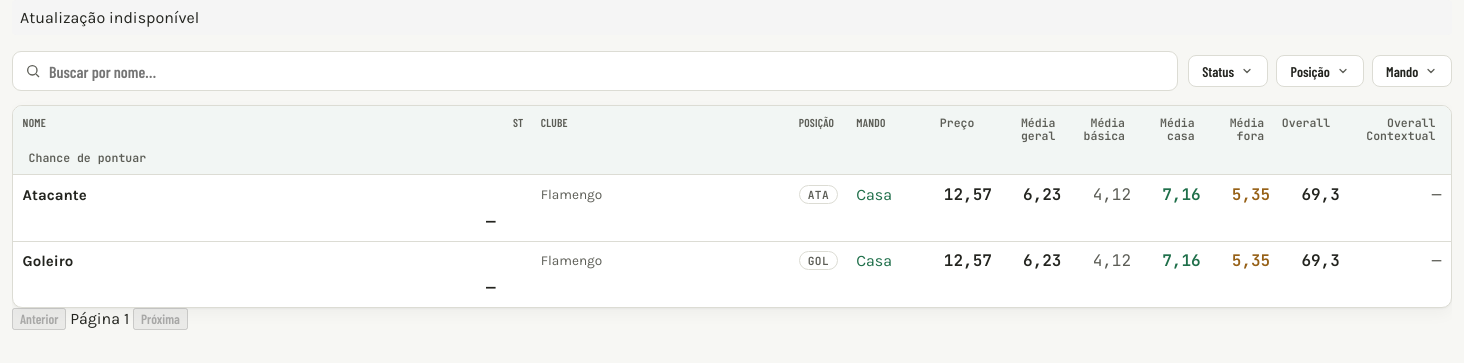
Test: Jogadores › removes an active position filter when the option is clicked again
Expected: the text "Atacante" is shown, [23,186,87,204]
Click the button "Posição" at (1320, 71), box [1276,55,1364,87]
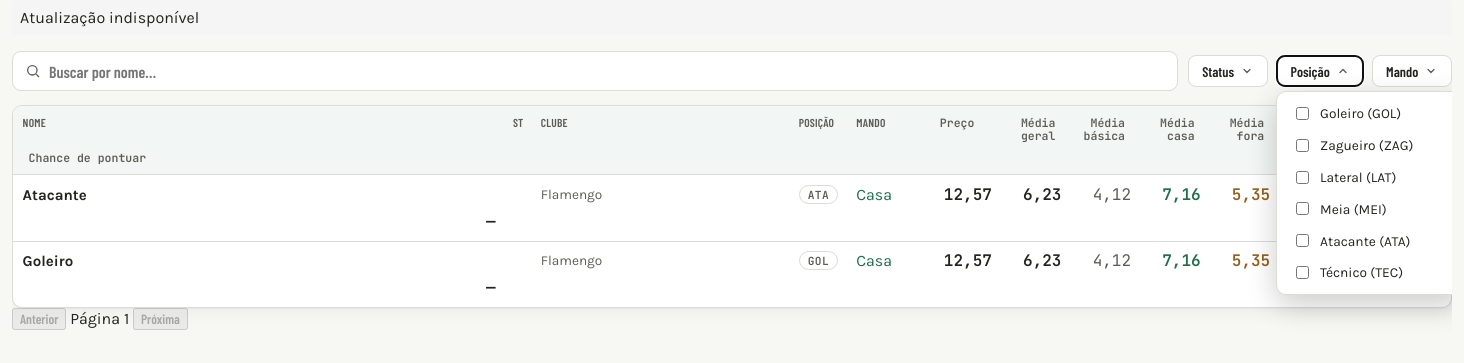
Click the option "Atacante (ATA)" at (1353, 241), box [1296,233,1410,249]
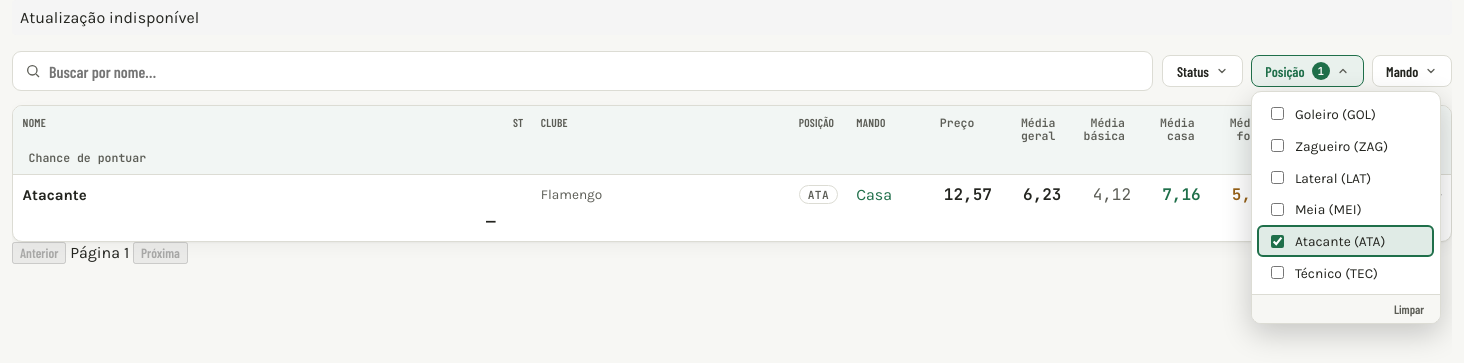
Click the option "Atacante (ATA)" at (1346, 241), box [1257,225,1434,257]
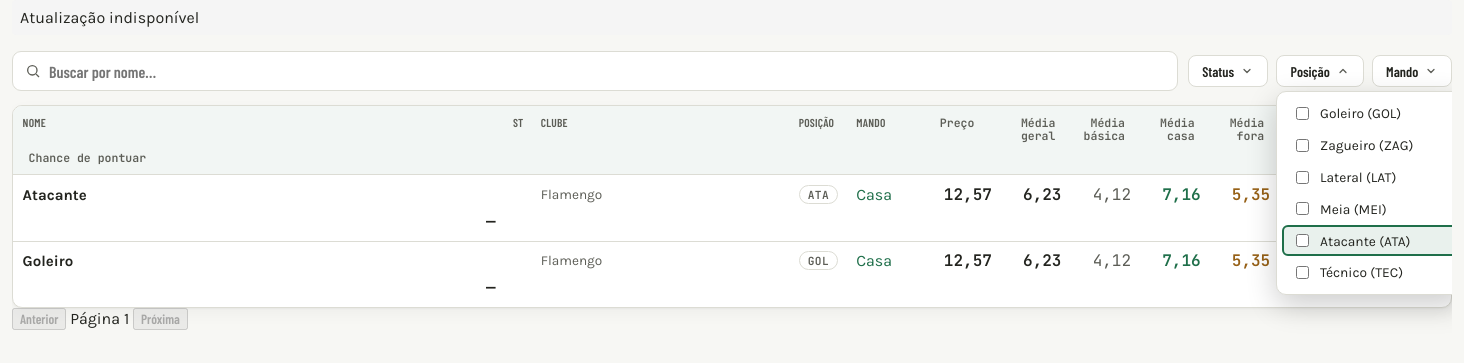
Expected: the text "Atacante" is shown, [23,186,87,204]
Expected: the text "Goleiro" is shown, [23,252,73,270]
